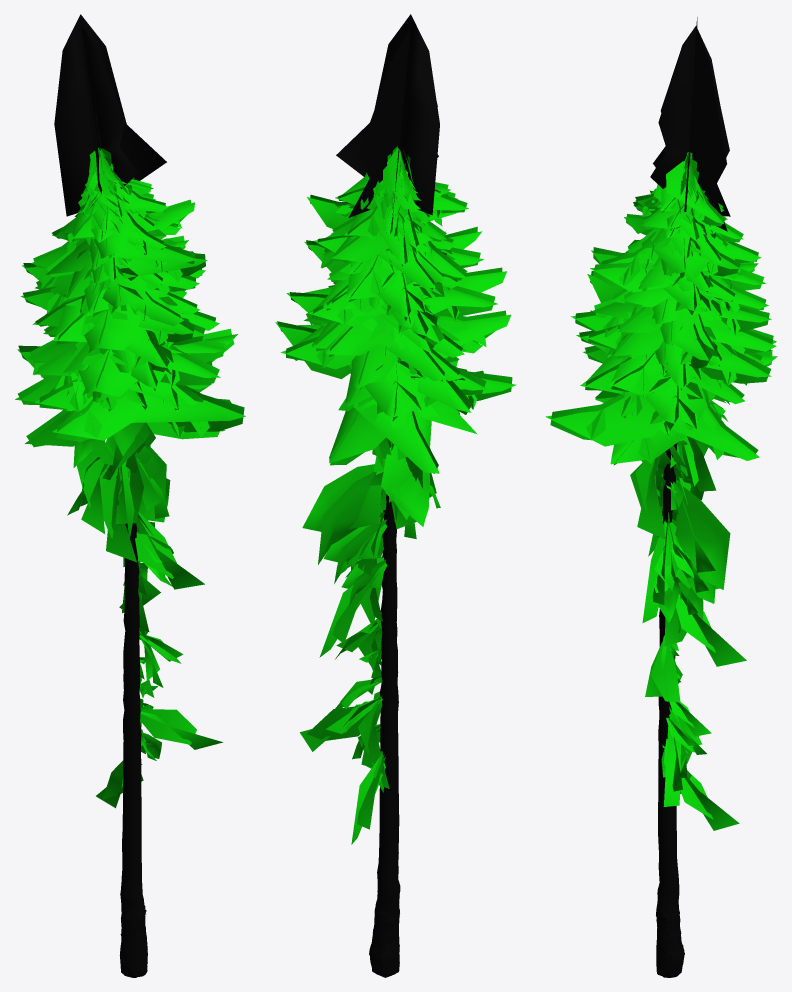
File: pine_004_6.FBX
3 views of the same model, side by side, from view 1: azimuth 30°, elevation 25°; view 2: azimuth 150°, elevation 25°; view 3: azimuth 270°, elevation 25° (orthographic). The views are drawn at different scales.
Visible parts, largest first — view 1: pine_004_06_LOD0; view 2: pine_004_06_LOD0; view 3: pine_004_06_LOD0.
Boxes of the visible parts, x1,y1,x2,y2 form: pine_004_06_LOD0: (15, 14, 245, 977); pine_004_06_LOD0: (275, 14, 516, 977); pine_004_06_LOD0: (545, 17, 777, 977).
Size of what is drawn, in the model's own units: 530 by 2306 by 515.
